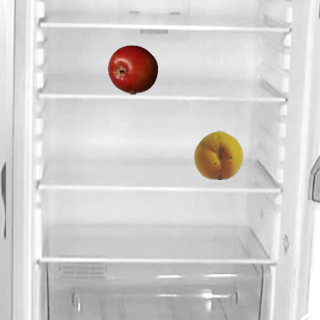Apple Braeburn: (107, 44, 157, 94)
Peach 2: (193, 129, 243, 179)
